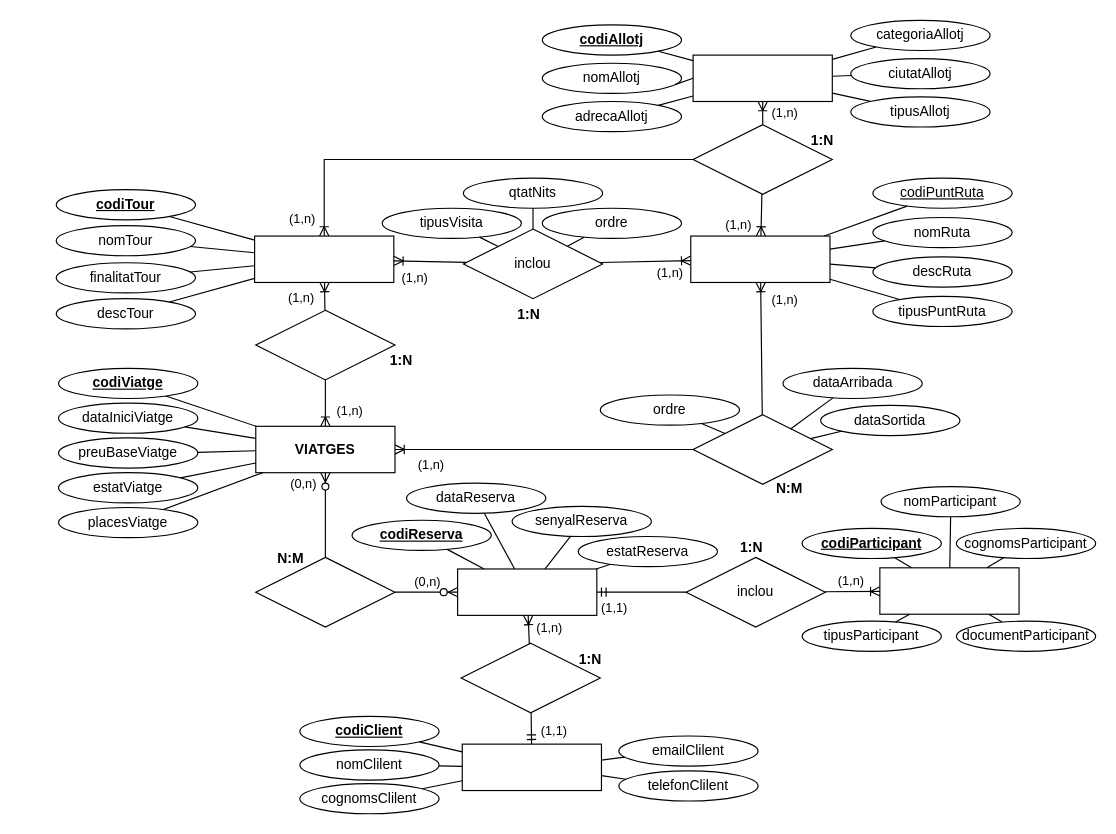
The diagram is 1116 pixels wide and 834 high, and some of its shapes have lost their labels. Here are the shapes that lost their labels. From the top down, the box of each, then its label:
(692, 54, 832, 102): ALLOTJAMENTS
(692, 124, 832, 194): admet
(253, 235, 394, 282): TOURS
(690, 235, 830, 282): PUNTS_RUTA
(255, 309, 395, 380): programa
(692, 414, 832, 484): programaPunts
(255, 556, 395, 627): correspon
(456, 568, 597, 615): RESERVES
(879, 567, 1019, 614): PARTICIPANTS
(460, 642, 600, 713): fa
(461, 743, 601, 791): CLIENT
